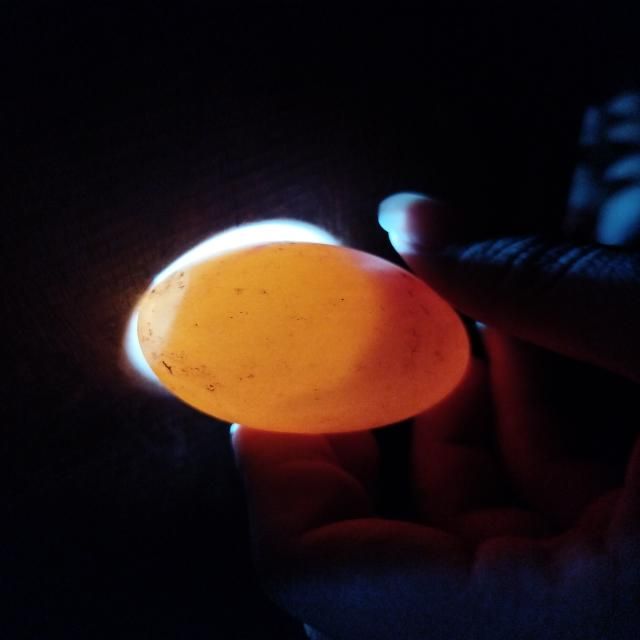Camara de Ar: (138, 268, 188, 362)
Gema Quebrada: (308, 248, 469, 437)
